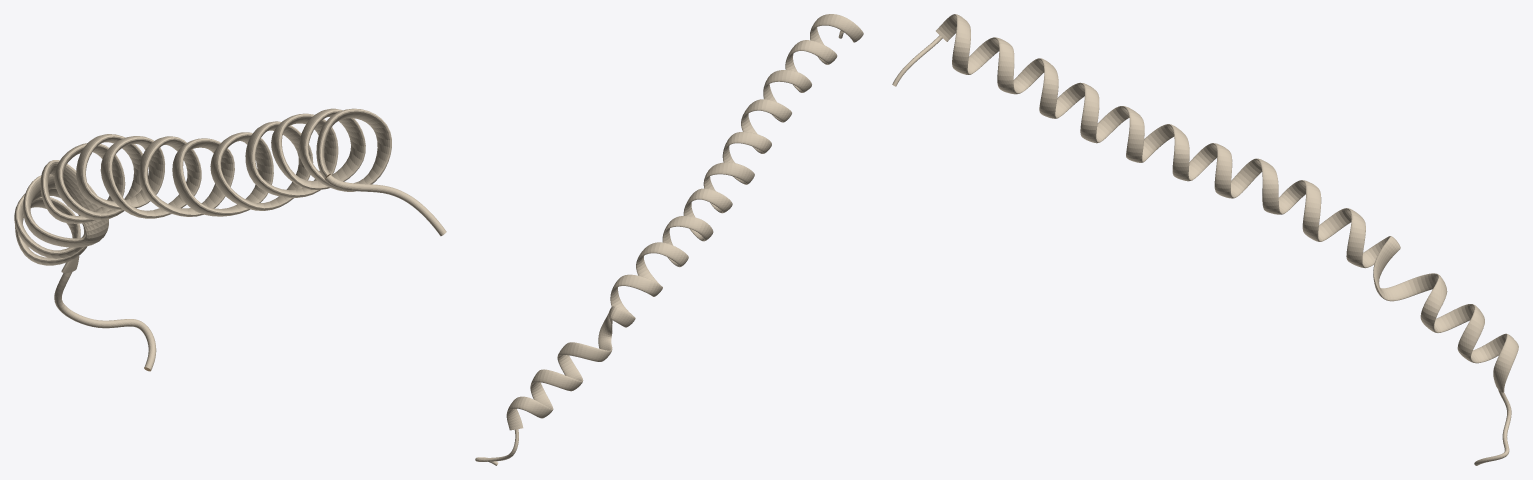
Rendered from SheetrCoilHelix.dae.
3 views of the same model, side by side, from view 1: azimuth 30°, elevation 25°; view 2: azimuth 150°, elevation 25°; view 3: azimuth 270°, elevation 25° (orthographic). The views are drawn at different scales.
Parts seen in each view (by area): view 1: Shape_IndexedTriangleStripSet_053; view 2: Shape_IndexedTriangleStripSet_053; view 3: Shape_IndexedTriangleStripSet_053.
Part boxes in pixels (x1,y1,x2,y2): Shape_IndexedTriangleStripSet_053: [14, 108, 446, 371]; Shape_IndexedTriangleStripSet_053: [475, 14, 863, 465]; Shape_IndexedTriangleStripSet_053: [892, 14, 1518, 465].
Size of the model in its own units: 22.53 by 68.77 by 45.94.
